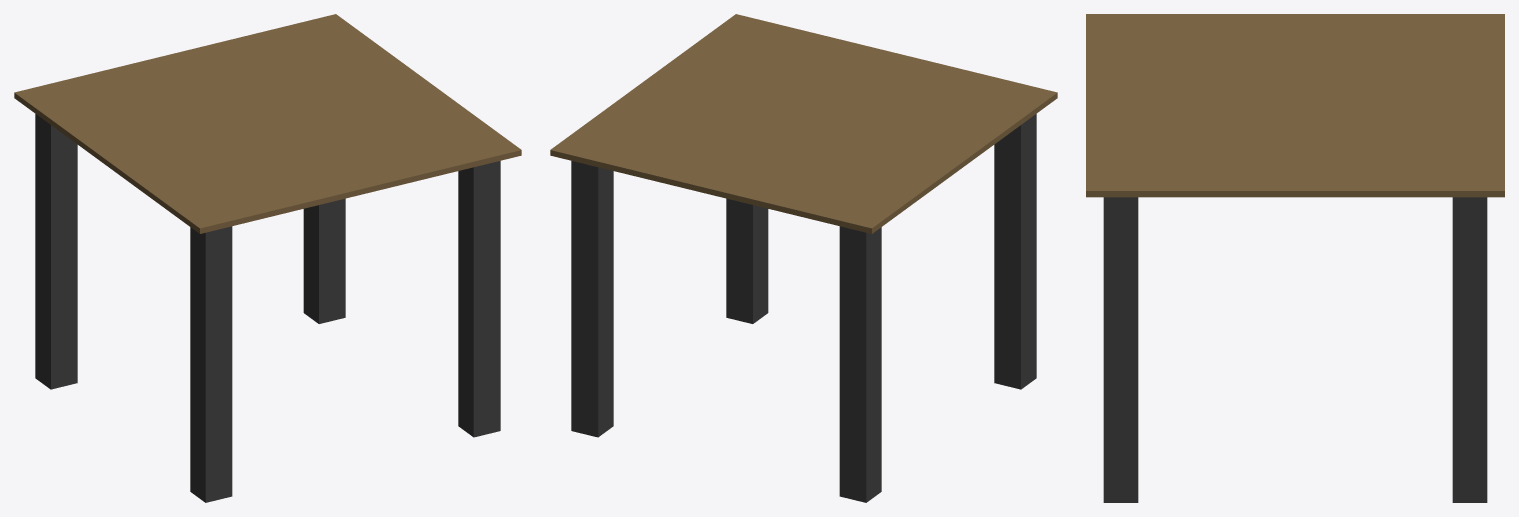
Rendered from Table.fbx.
The picture shows the model from 3 angles, left to right: view 1: azimuth 30°, elevation 25°; view 2: azimuth 150°, elevation 25°; view 3: azimuth 270°, elevation 25°; orthographic projection. The views are drawn at different scales.
Parts seen in each view (by area): view 1: Cube.017; view 2: Cube.017; view 3: Cube.017.
Boxes of the visible parts, x1,y1,x2,y2 form: Cube.017: (14, 14, 521, 502); Cube.017: (550, 14, 1057, 502); Cube.017: (1086, 14, 1504, 502).
Size of the model in its own units: 1200 by 1010 by 1200.
